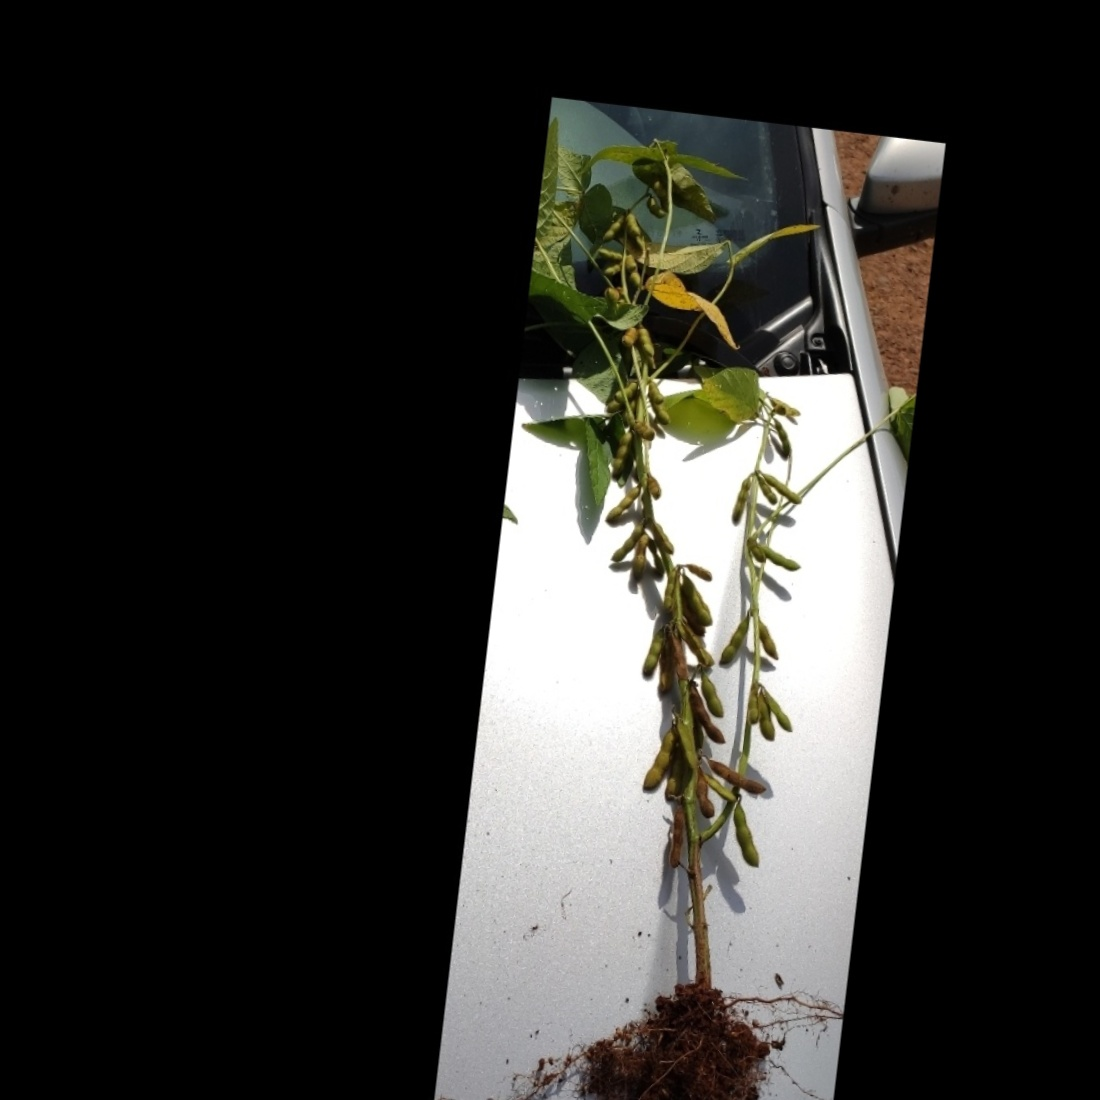pod: (698, 753, 778, 802), (726, 793, 770, 872), (639, 721, 678, 804), (750, 681, 802, 740), (689, 661, 736, 722), (716, 607, 757, 674), (634, 620, 669, 692), (659, 805, 692, 875), (600, 474, 642, 530), (686, 771, 743, 808), (754, 469, 809, 507), (607, 523, 644, 571), (728, 467, 755, 532), (757, 543, 806, 577), (624, 416, 668, 446), (628, 527, 651, 584), (631, 318, 660, 358)
soy: (435, 114, 945, 1100)
